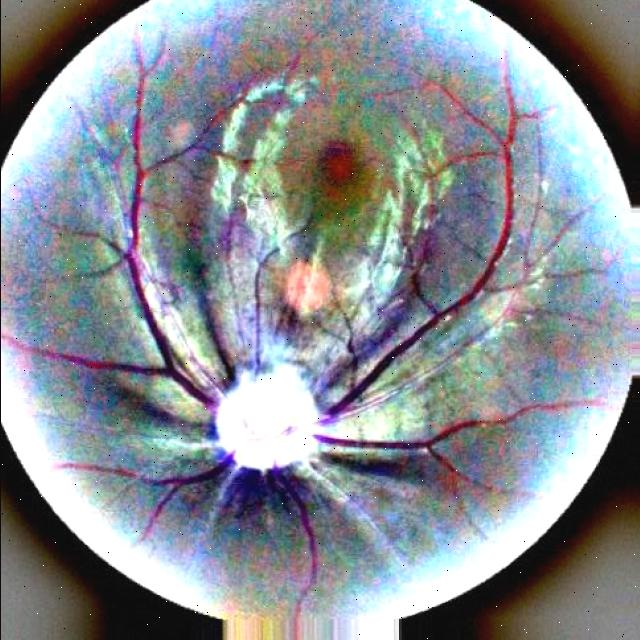Macula: (263, 106, 393, 224)
Nerves: (21, 67, 578, 528)
Optic Disk: (190, 355, 347, 492)
